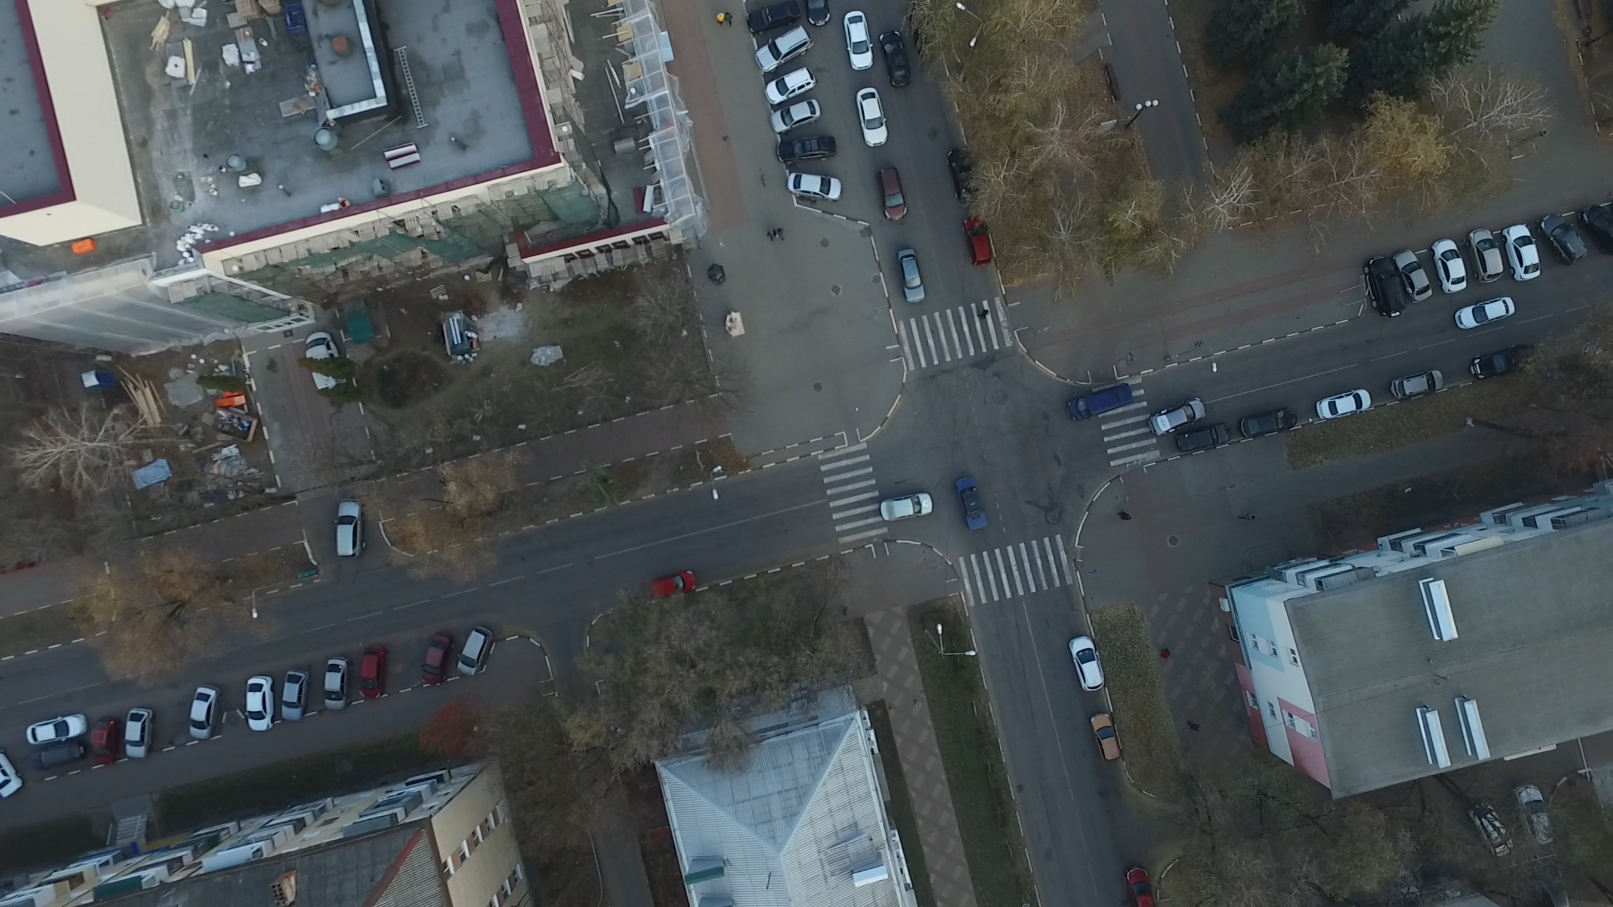car: (1516, 779, 1564, 849), (300, 331, 348, 398), (1469, 336, 1537, 380), (754, 27, 814, 75), (1360, 255, 1405, 319), (1535, 215, 1588, 267), (1469, 802, 1516, 857), (1067, 635, 1109, 693), (1462, 226, 1503, 286), (1451, 293, 1518, 330), (1147, 395, 1205, 436), (1069, 384, 1134, 421), (332, 498, 368, 564), (1314, 383, 1370, 422), (27, 713, 90, 748), (1393, 246, 1431, 301), (760, 66, 818, 103), (945, 151, 984, 205), (857, 87, 892, 148), (953, 475, 992, 528), (1434, 238, 1469, 296), (1175, 418, 1231, 454), (879, 29, 913, 87), (246, 673, 278, 735), (842, 7, 874, 69), (456, 628, 496, 678), (1390, 365, 1445, 402), (277, 667, 309, 728), (1506, 221, 1539, 280), (184, 686, 220, 739), (744, 1, 806, 32), (88, 717, 125, 767), (893, 249, 927, 305), (1234, 408, 1295, 439), (788, 171, 847, 202), (875, 162, 907, 219), (1087, 713, 1124, 762), (881, 491, 935, 524), (958, 214, 992, 268), (420, 633, 454, 686), (769, 99, 820, 133), (1580, 209, 1613, 260), (784, 134, 842, 162), (645, 571, 698, 601), (121, 708, 152, 757), (360, 647, 386, 700), (1, 748, 25, 801), (323, 655, 347, 710), (1124, 866, 1153, 907), (802, 1, 834, 27)
